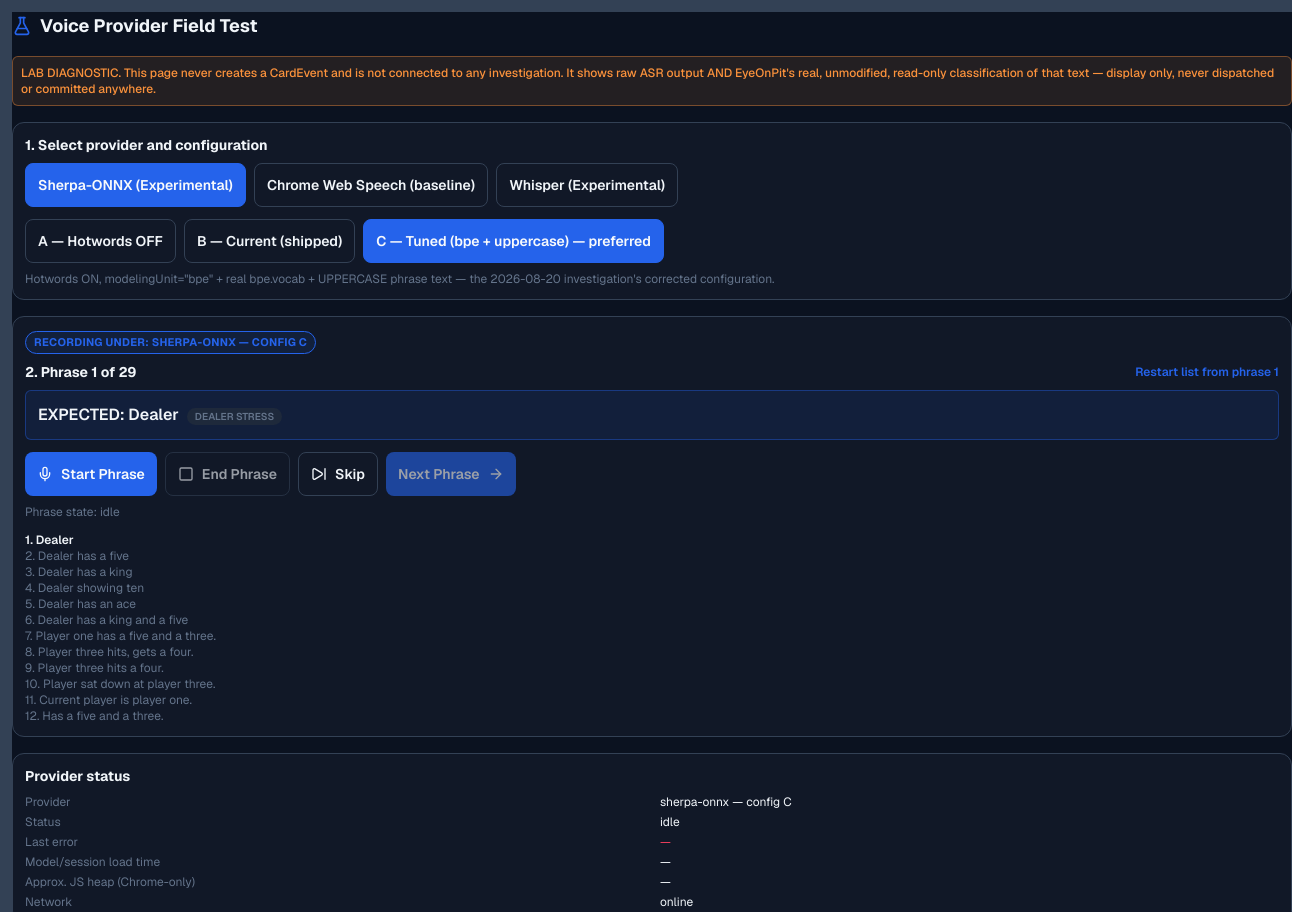
Sherpa A/B/C Lab page — REGRESSION (items 7 & 8, 2026-08-20 real mic session): config switch resets the phrase run cleanly, no page reload, no bleed › Whisper is selectable as a third provider, resets the phrase run on switch, and updates the banner
Click the button "Skip" at (338, 474), box left=298, top=452, right=378, bottom=496
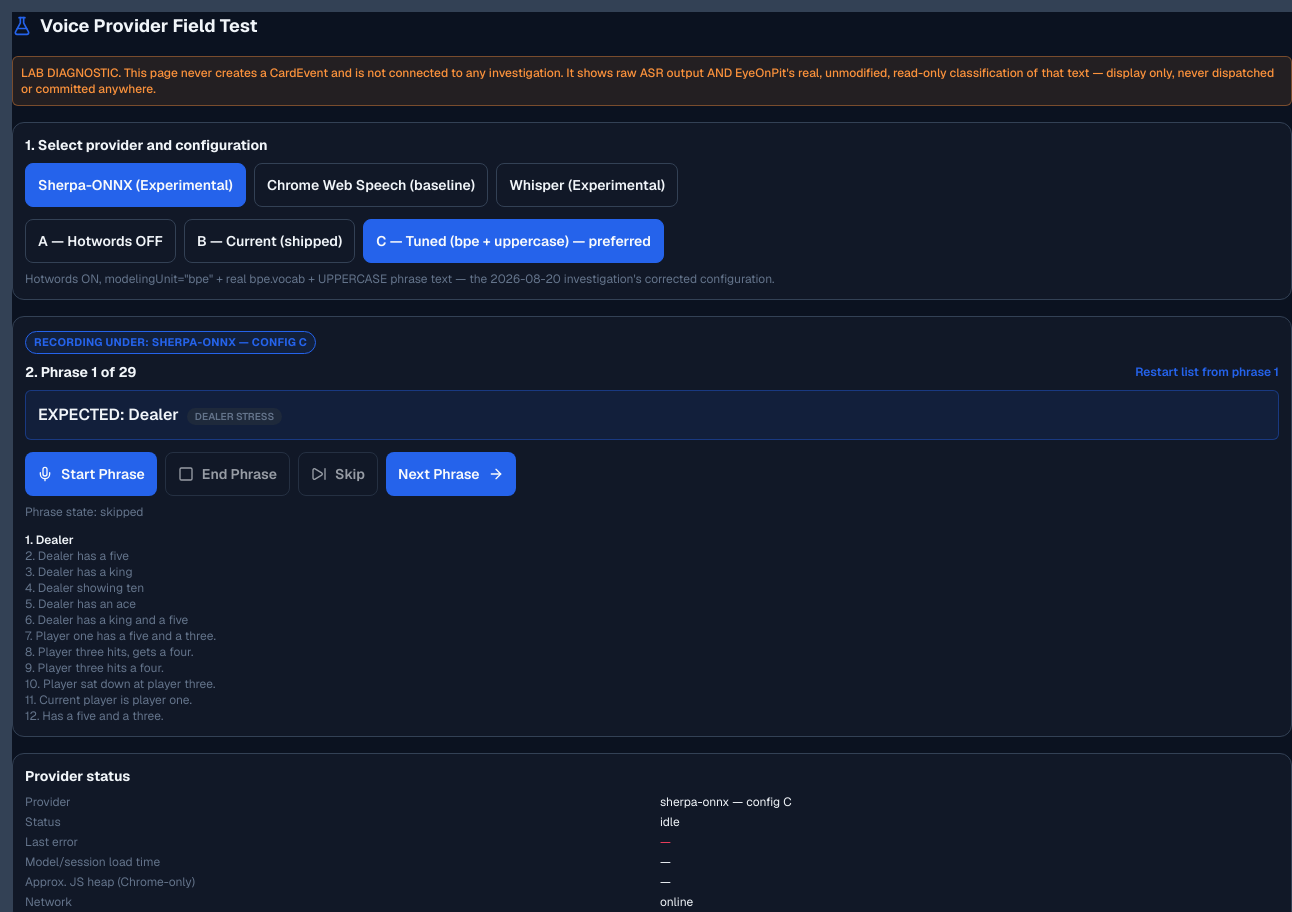
Click the button "Next Phrase" at (451, 474), box left=386, top=452, right=516, bottom=496
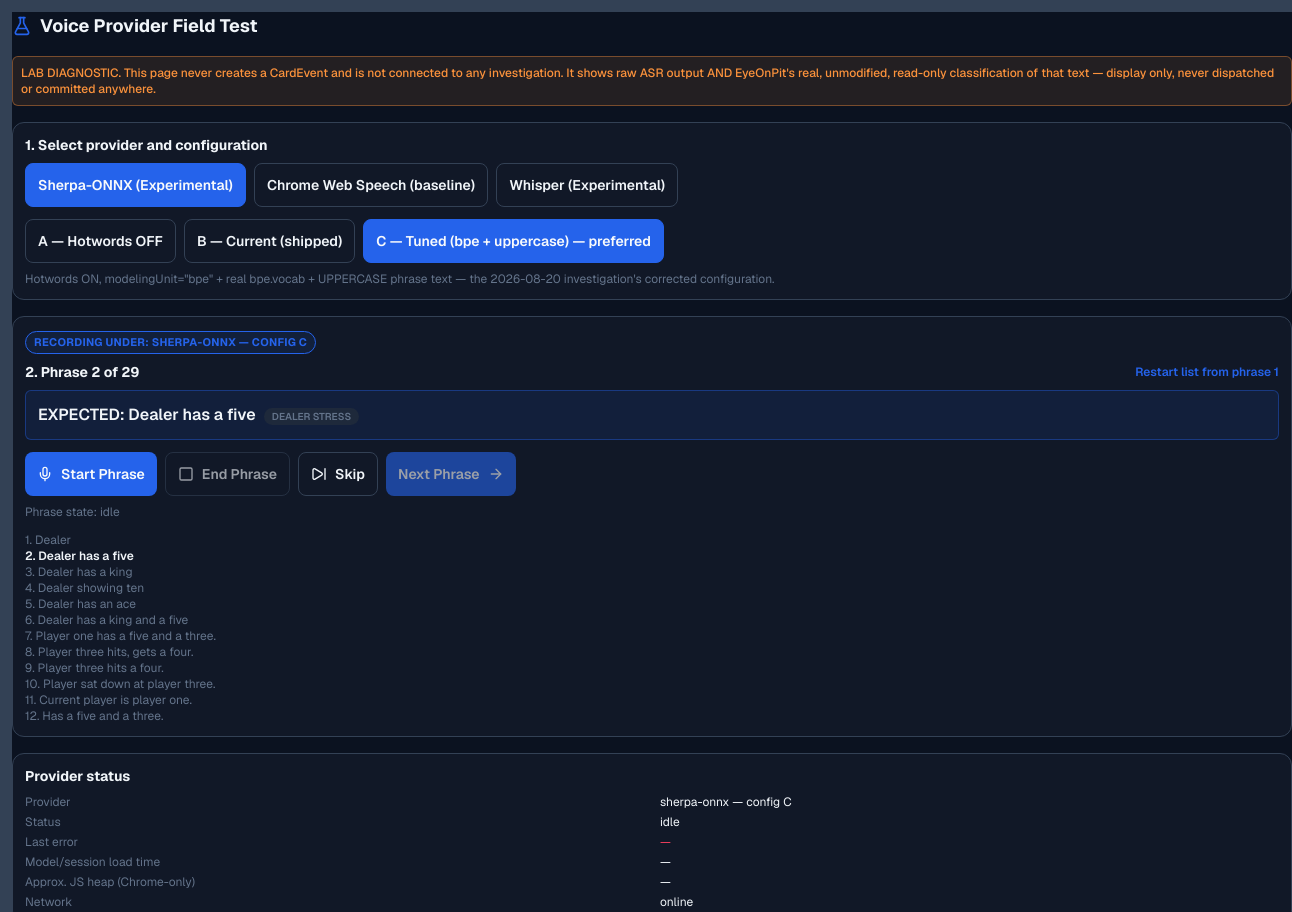
Expected: the heading "2. Phrase 2 of 29" is shown, left=25, top=362, right=139, bottom=382
Click the button "Whisper (Experimental)" at (587, 185), box left=496, top=163, right=678, bottom=207
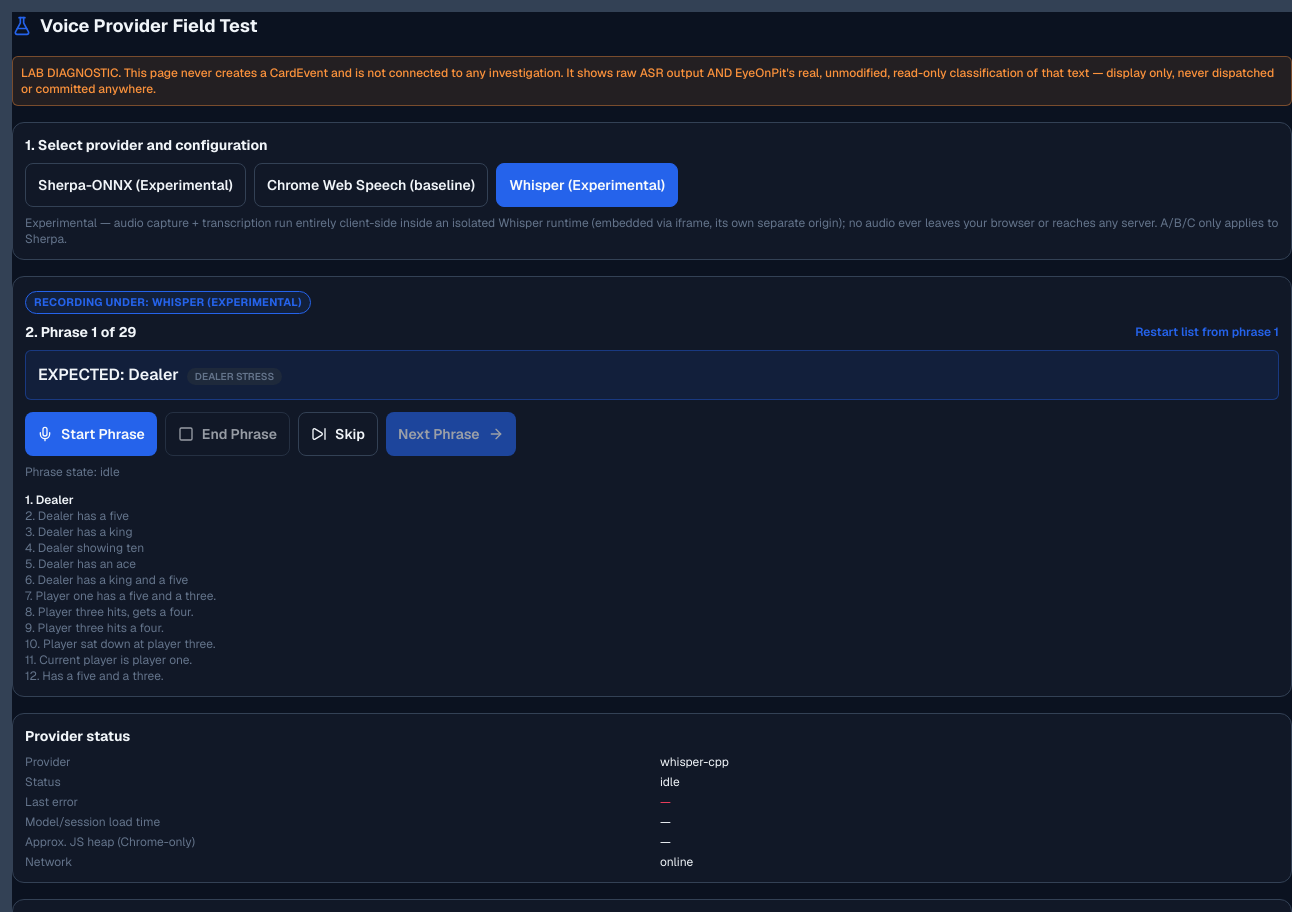
Expected: the heading "2. Phrase 1 of 29" is shown, left=25, top=322, right=136, bottom=342
Expected: the text with test id "active-config-banner" shows "Whisper", left=152, top=295, right=302, bottom=309
Expected: the button "A — Hotwords OFF" is gone
